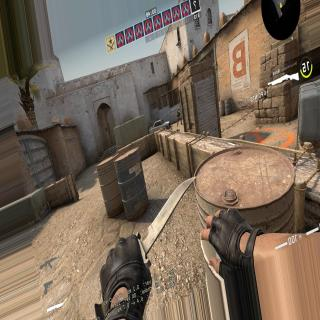CT-Body: (176, 108, 181, 124)
CT-Head: (178, 108, 180, 110)
